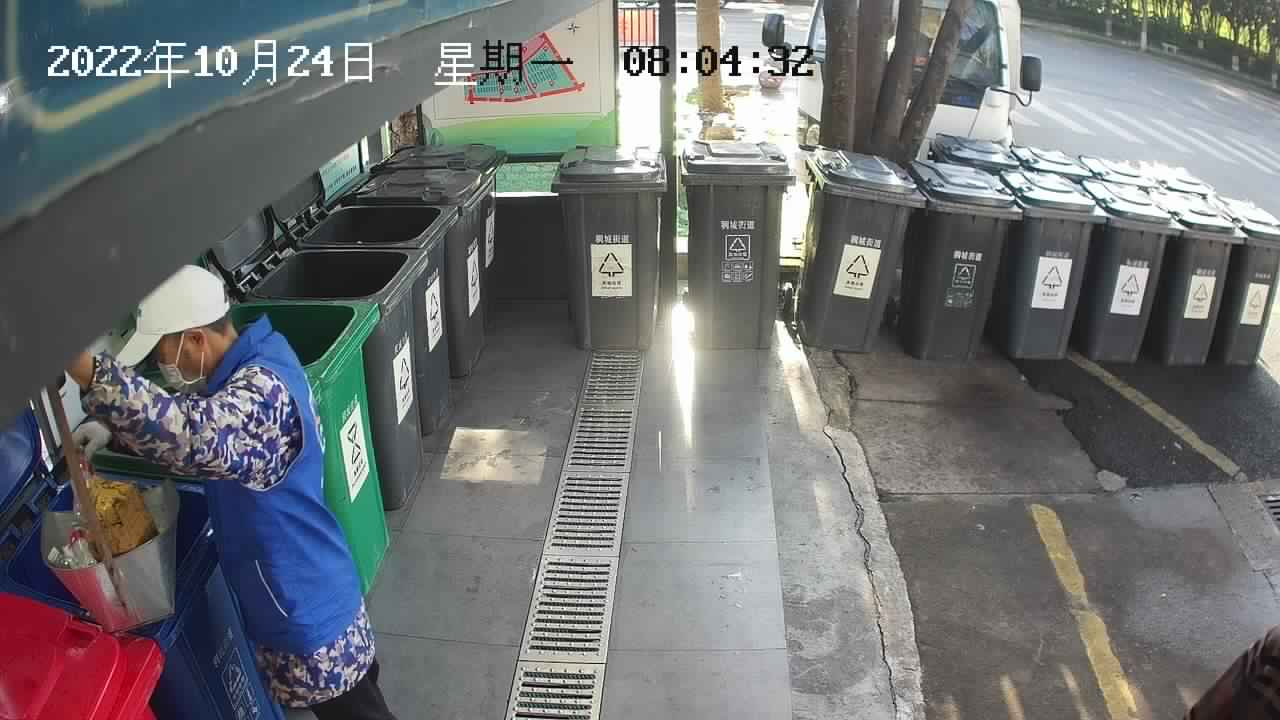worker: (64, 256, 403, 720)
